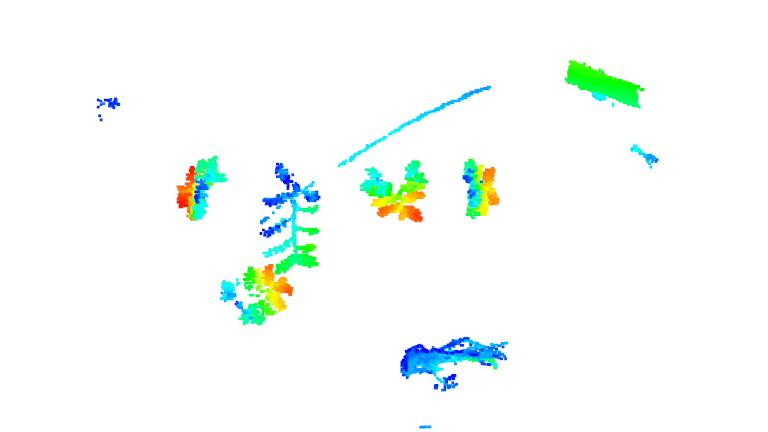chickpea: (253, 162, 323, 274), (219, 263, 295, 328), (362, 159, 428, 225), (175, 154, 229, 223), (457, 157, 501, 221)
